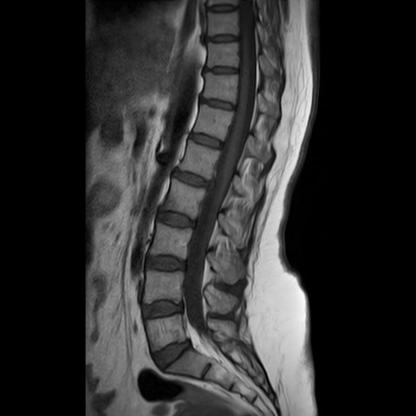Degenerative Disc Diseaserotation: (168, 168, 216, 188)
Disc Bulgerotation: (134, 296, 191, 324)
